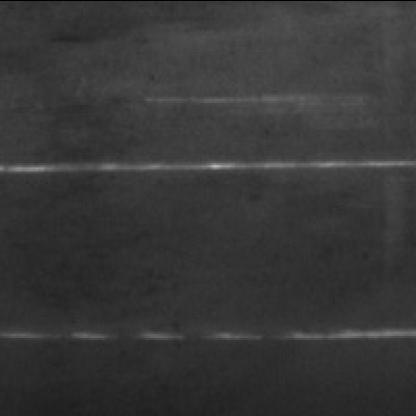scratches: (6, 154, 416, 183), (6, 324, 416, 350)
